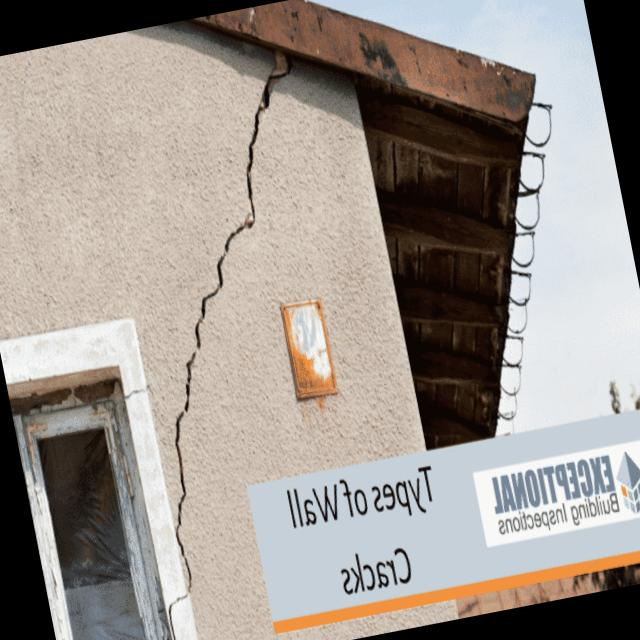crack: (67, 62, 389, 640)
